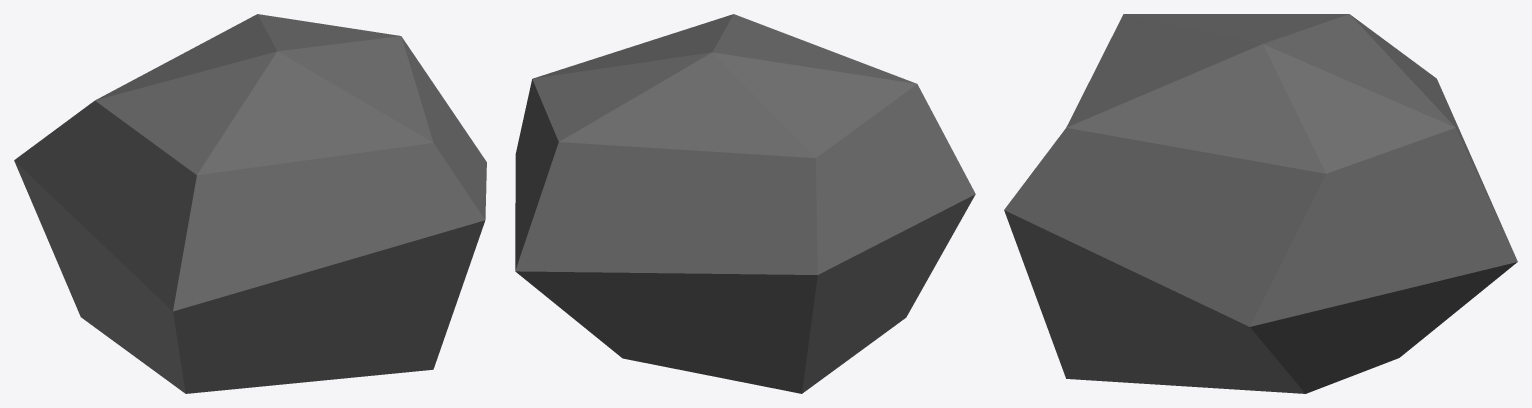
File: Rock1_Model.fbx
3 renders of one model, left to right at view 1: azimuth 30°, elevation 25°; view 2: azimuth 150°, elevation 25°; view 3: azimuth 270°, elevation 25°, orthographic. The views are drawn at different scales.
Parts seen in each view (by area): view 1: pSphere1; view 2: pSphere1; view 3: pSphere1.
Boxes of the visible parts, x1,y1,x2,y2 form: pSphere1: (14,14,486,393); pSphere1: (515,14,975,393); pSphere1: (1004,14,1517,393).
Size of the model in its own units: 8.85 by 5.89 by 9.16.
